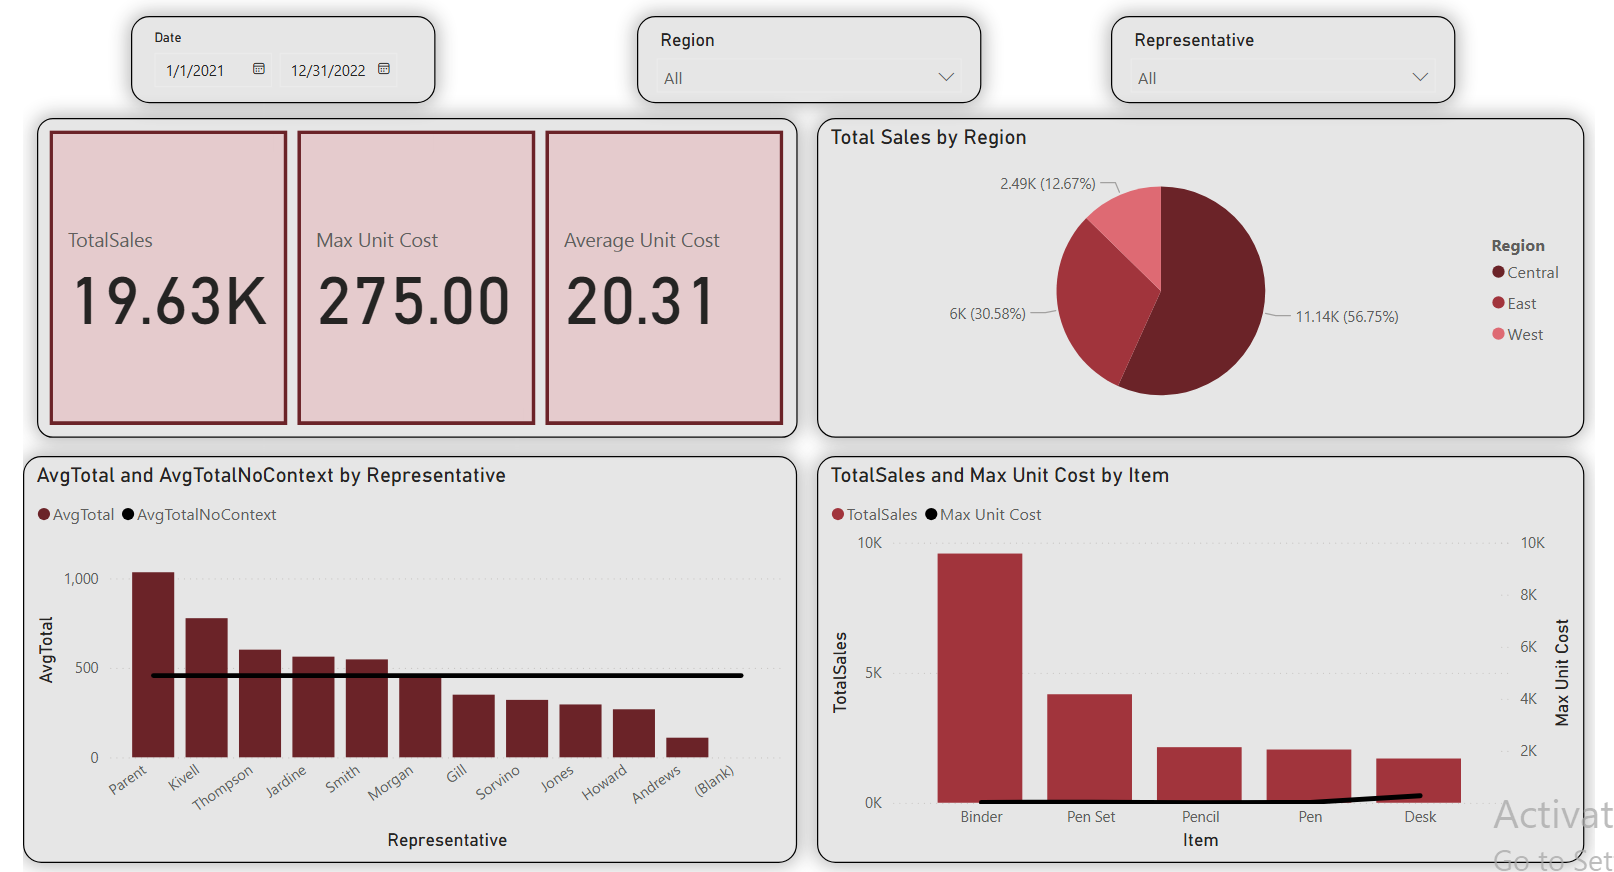

What the dashboard file says about the page in this screenshot:
{"tool":"powerbi","page":{"name":"Page 1","canvas":[1280,720],"ordinal":0},"visuals":[{"type":"slicer","fields":{"Values":["Calendar.Date"]},"box":[87.5,14.6,247.9,71.1],"z":0},{"type":"slicer","fields":{"Values":["SalesOrders.Region"]},"box":[499.4,14.6,280.7,71.1],"z":1},{"type":"slicer","fields":{"Values":["SalesOrders.Rep"]},"box":[885.9,14.6,280.7,71.1],"z":2},{"type":"cardVisual","fields":{"Data":["SalesOrders.TotalSales","SalesOrders.Max Unit Cost","SalesOrders.Average Unit Cost"]},"box":[10.9,98.4,619.7,260.7],"z":4},{"type":"pieChart","fields":{"Y":["SalesOrders.TotalSales"],"Category":["SalesOrders.Region"]},"box":[647.1,98.4,625.2,260.7],"z":5},{"type":"lineStackedColumnComboChart","fields":{"Category":["SalesOrders.Rep"],"Y":["SalesOrders.AvgTotal"],"Y2":["SalesOrders.AvgTotalNoContext"]},"box":[0,373.7,630.7,331.7],"z":6},{"type":"lineClusteredColumnComboChart","fields":{"Category":["SalesOrders.Item"],"Y":["SalesOrders.TotalSales"],"Y2":["SalesOrders.Max Unit Cost"]},"box":[647.1,373.7,625.2,331.7],"z":7}]}

Visuals, with their boxes in screenshot pixels (x1, y1, x2, y2):
slicer - Calendar.Date: <bbox>121, 5, 427, 93</bbox>
slicer - SalesOrders.Region: <bbox>630, 5, 976, 93</bbox>
slicer - SalesOrders.Rep: <bbox>1107, 5, 1454, 93</bbox>
cardVisual - SalesOrders.TotalSales x SalesOrders.Max Unit Cost: <bbox>26, 109, 792, 431</bbox>
pieChart - SalesOrders.TotalSales x SalesOrders.Region: <bbox>812, 109, 1585, 431</bbox>
lineStackedColumnComboChart - SalesOrders.Rep x SalesOrders.AvgTotal: <bbox>13, 449, 792, 859</bbox>
lineClusteredColumnComboChart - SalesOrders.Item x SalesOrders.TotalSales: <bbox>812, 449, 1585, 859</bbox>
